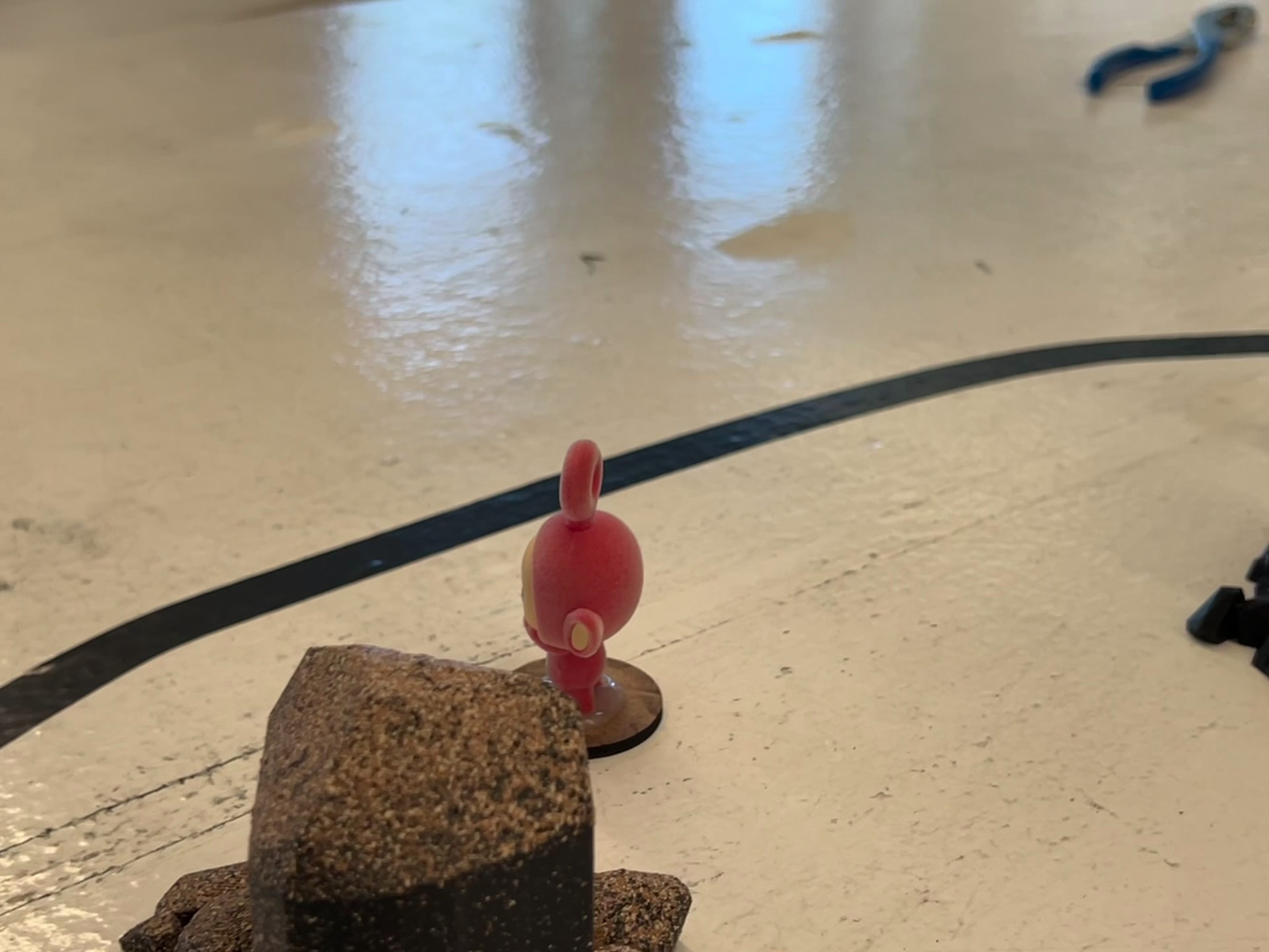teletubby: (521, 440, 642, 714)
